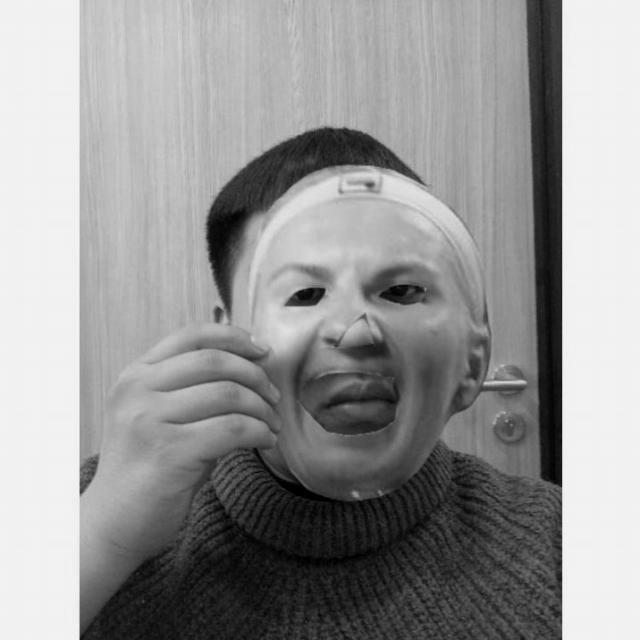fake: (245, 164, 495, 492)
